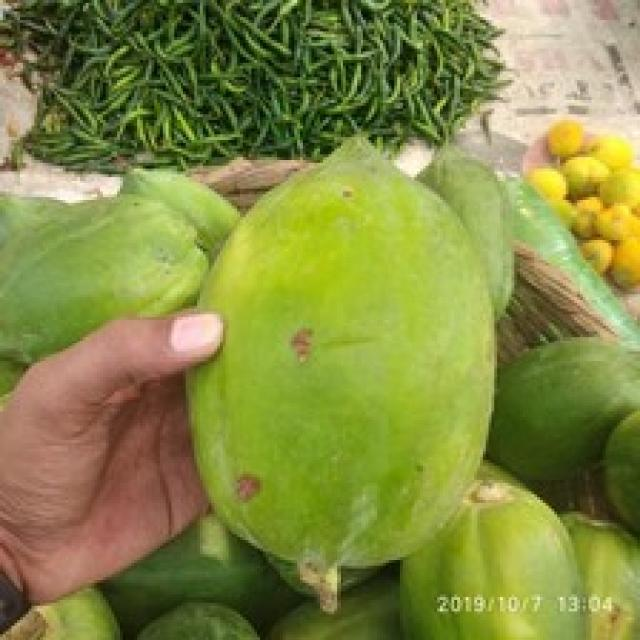Pepaya unrippen: (195, 120, 504, 590)
